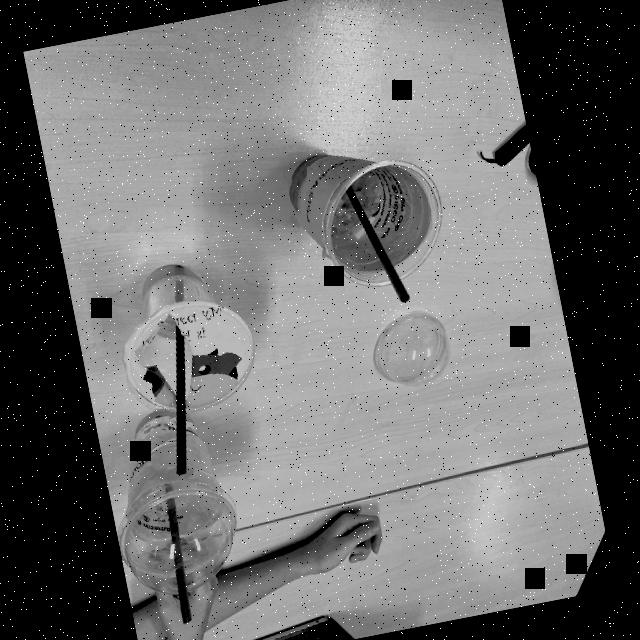plastic_cup: (282, 120, 458, 302), (100, 402, 252, 580), (106, 252, 256, 420)
plastic_cup_lid: (117, 492, 247, 605), (364, 306, 466, 400)
straw: (344, 183, 414, 307), (163, 488, 194, 626), (175, 266, 188, 478)
